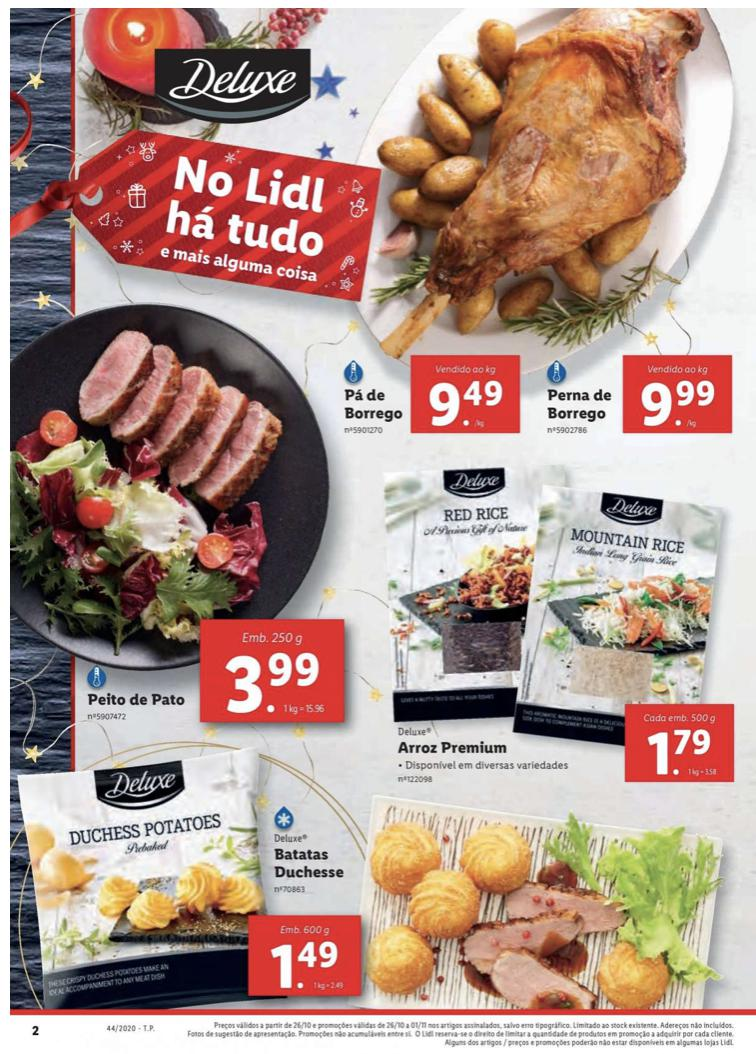name: (393, 737, 513, 761), (274, 845, 349, 883), (545, 387, 616, 426), (342, 385, 406, 426), (85, 688, 191, 711)
price: (219, 649, 328, 718), (636, 378, 722, 435), (268, 933, 342, 993), (424, 374, 506, 428), (648, 727, 724, 783)
product: (353, 448, 756, 806), (15, 313, 345, 737), (336, 11, 537, 445), (526, 14, 729, 433), (9, 748, 349, 996)
